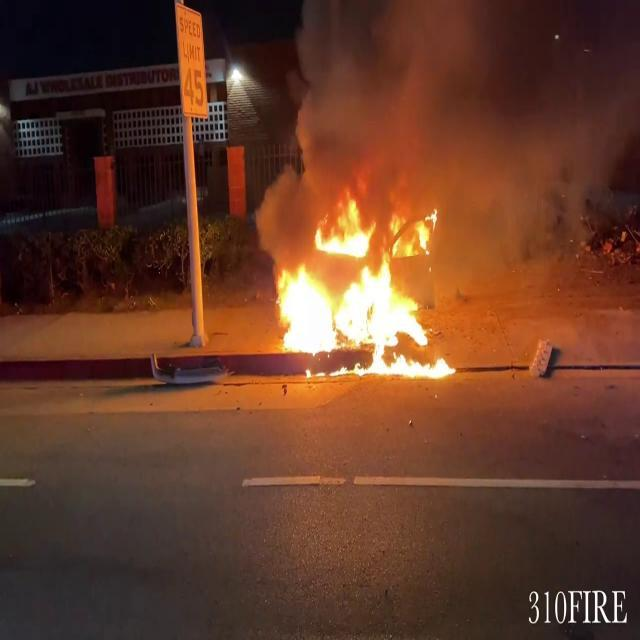Fire: (264, 194, 460, 380)
Smoke: (278, 0, 628, 229)
